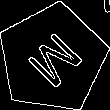M_SE: (18, 24, 87, 92)
